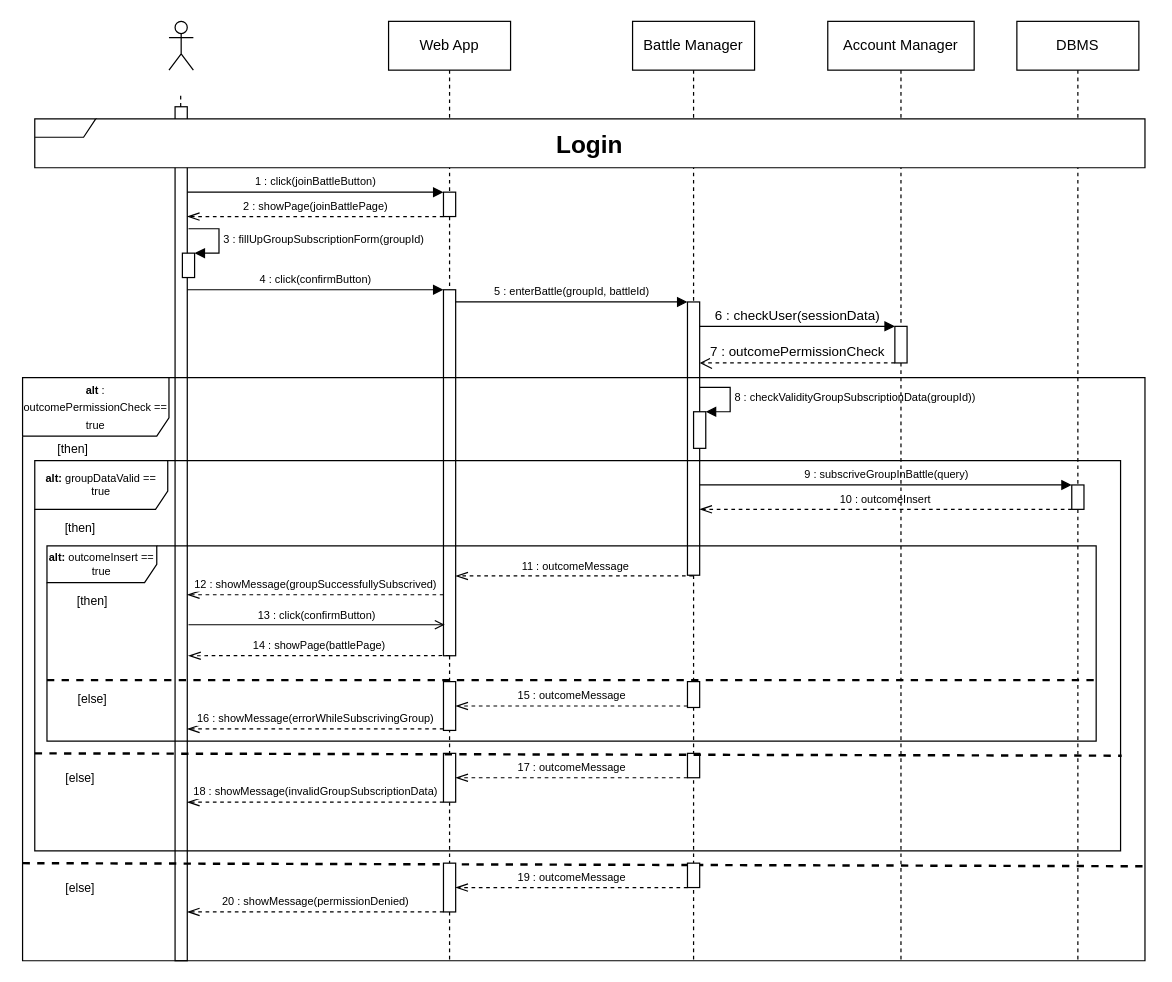
Some shapes in this 1172 by 982 pixel diagram are drawn without their labels. The shapes that lost their labels are listed below. From the top down, each one's box as (x1, y1, x2, y2) in pixels, then its label:
(168, 20, 193, 70): Student
(34, 118, 1145, 168): ref
